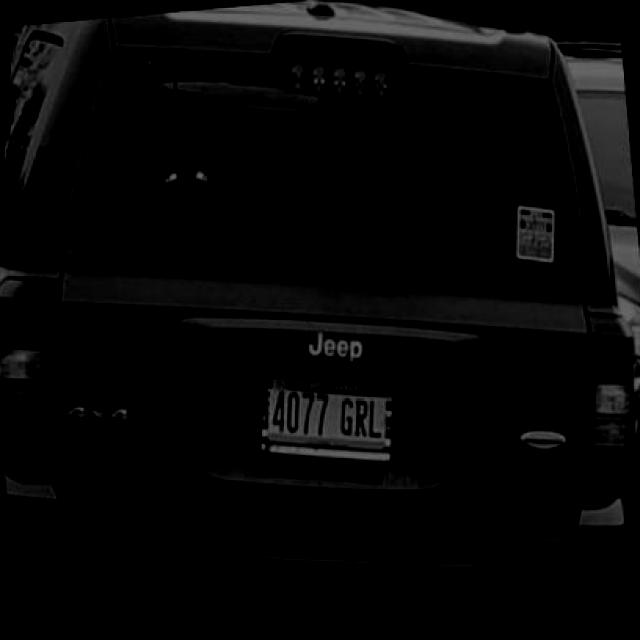licenseplate: (254, 366, 396, 465)
